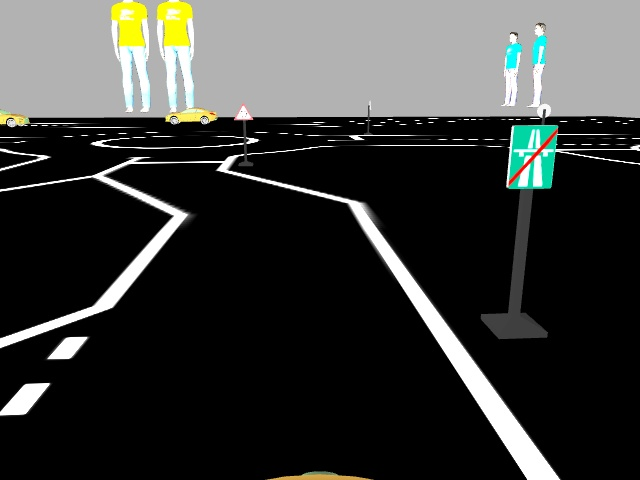HighwayExit: (505, 124, 555, 187)
